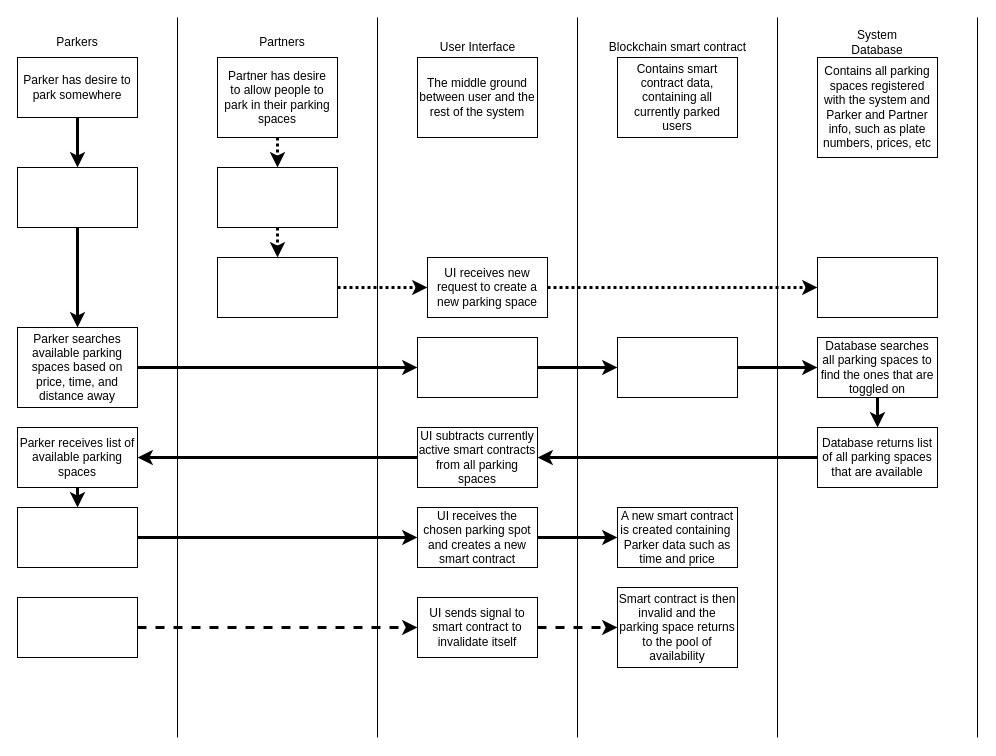
Some shapes in this 996 by 756 pixel diagram are drawn without their labels. Each missing label, with the box of its shape:
All active smart contracts are compiled into a list: (616, 336, 738, 398)
Database creates a new parking space: (816, 256, 938, 318)
Parker chooses a parking space, proceeds to the location, and parks: (16, 506, 138, 568)
Parker decides to leave: (16, 596, 138, 658)
Parker signs up for an account and logs in: (16, 166, 138, 228)
Partner registers their parking spaces and enters them into the system: (216, 256, 338, 318)
Partner signs up for an account and logs in: (216, 166, 338, 228)
UI receives new request to search available parking: (416, 336, 538, 398)
